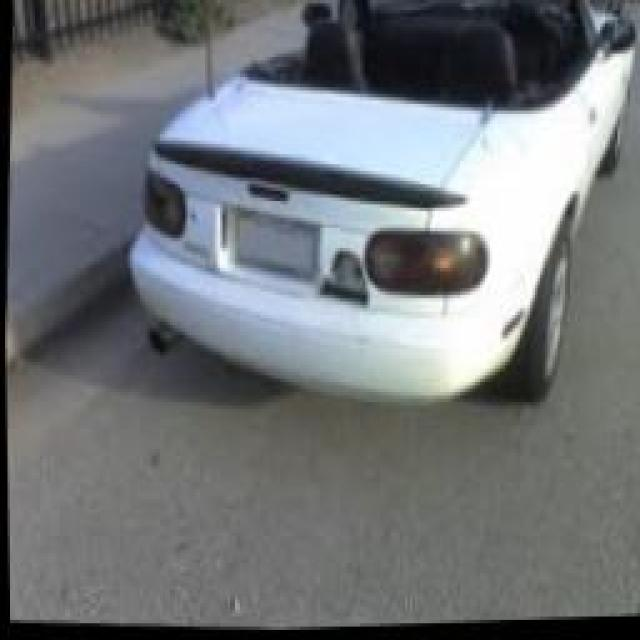Dickey: (297, 231, 379, 309)
